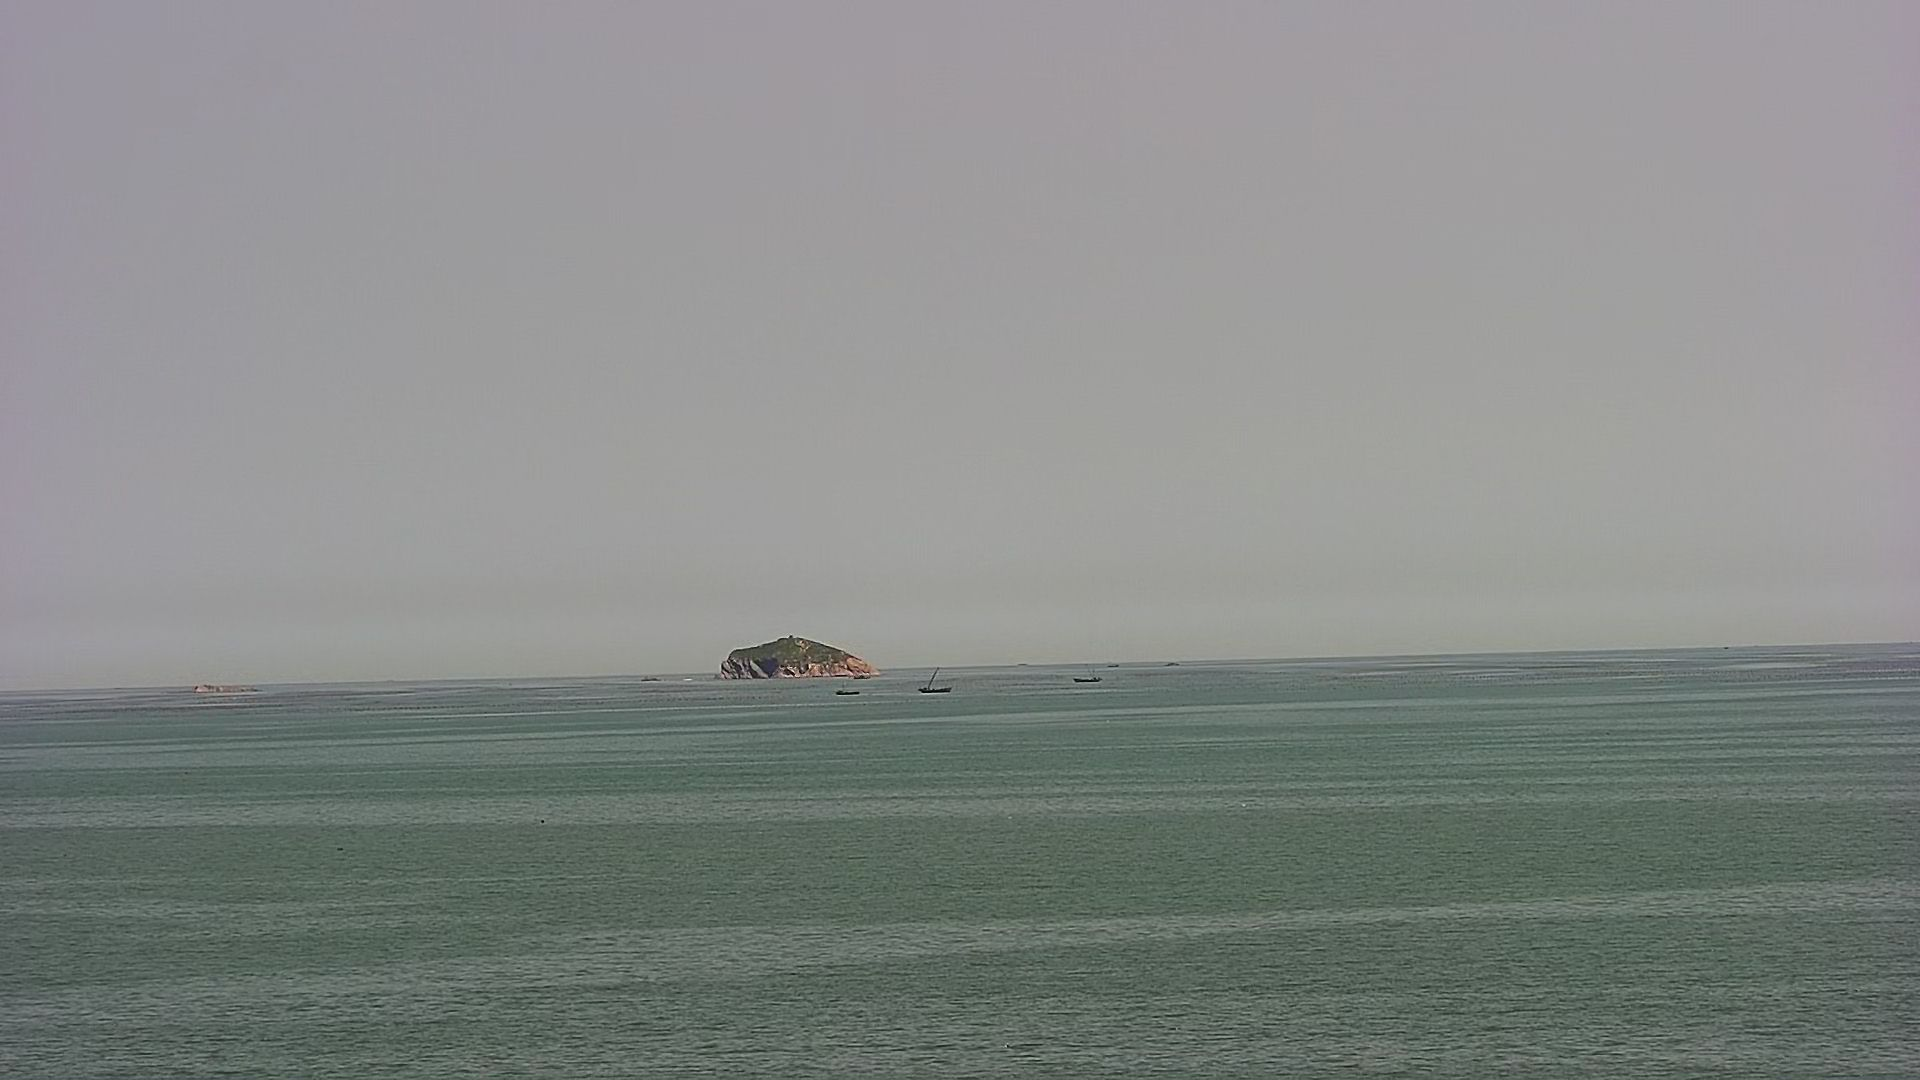rock: (712, 632, 881, 682)
